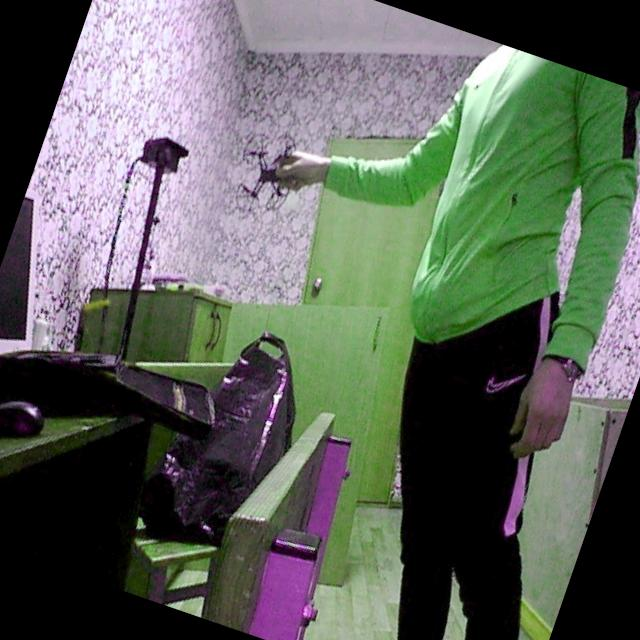drone: (219, 114, 320, 224)
